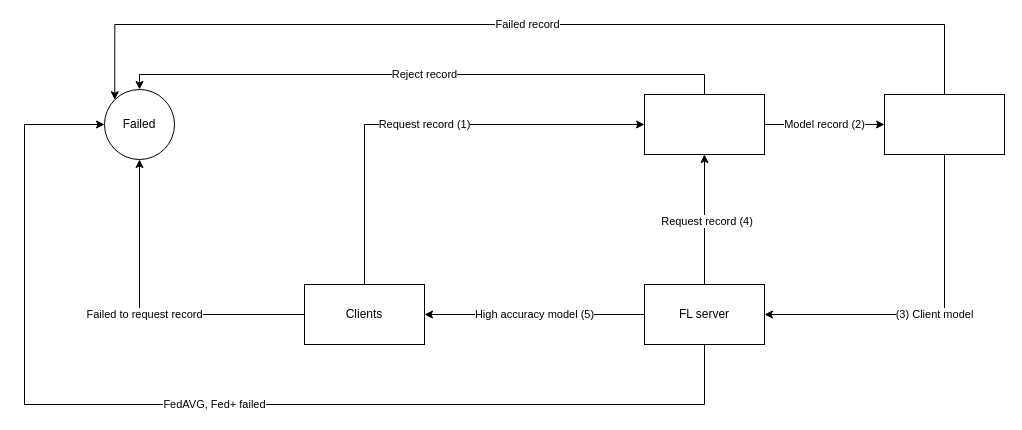
Some shapes in this 1022 by 430 pixel diagram are drawn without their labels. Here are the shapes that lost their labels. From the top down, the centre of each, then its label:
At (704,124): "Blockchain".
At (944,124): "Record storage".
